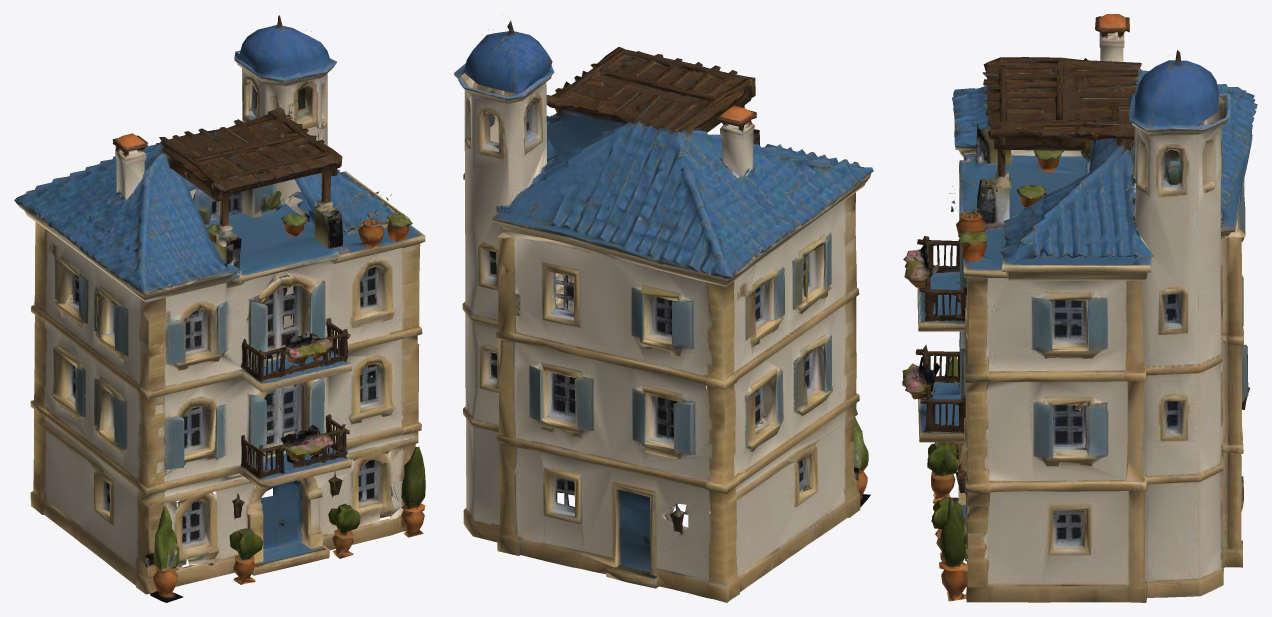
3 views of the same model, side by side, from view 1: azimuth 30°, elevation 25°; view 2: azimuth 150°, elevation 25°; view 3: azimuth 270°, elevation 25° (orthographic). The views are drawn at different scales.
Parts seen in each view (by area): view 1: harbor__tower_3__native_mobile; view 2: harbor__tower_3__native_mobile; view 3: harbor__tower_3__native_mobile.
Part boxes in pixels (bbox=[...]): harbor__tower_3__native_mobile: bbox=[14, 15, 425, 602]; harbor__tower_3__native_mobile: bbox=[454, 14, 873, 602]; harbor__tower_3__native_mobile: bbox=[902, 14, 1257, 602].
Bounding box in the file's own units: 0.663 × 1 × 0.6082.
1 material, 1 textured.
